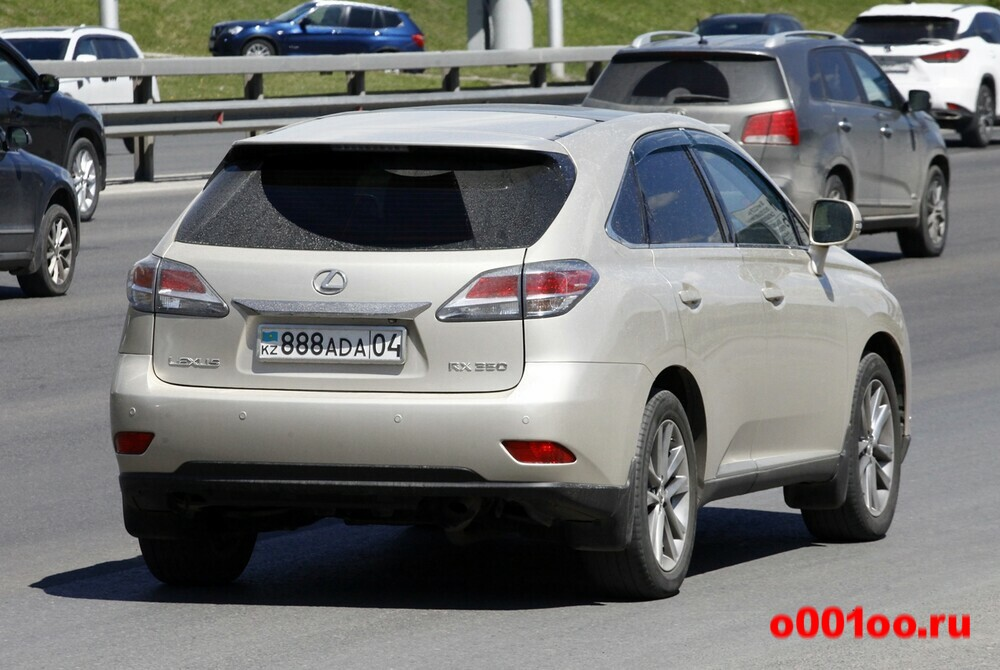license_plate: (253, 324, 404, 364)
